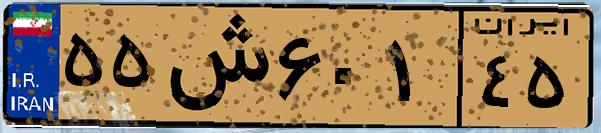0: (330, 28, 385, 110)
1: (385, 28, 445, 110)
4: (475, 38, 525, 113)
5: (57, 26, 110, 100), (525, 38, 570, 115), (110, 28, 158, 98)
6: (270, 28, 330, 110)
ش: (158, 12, 270, 120)
